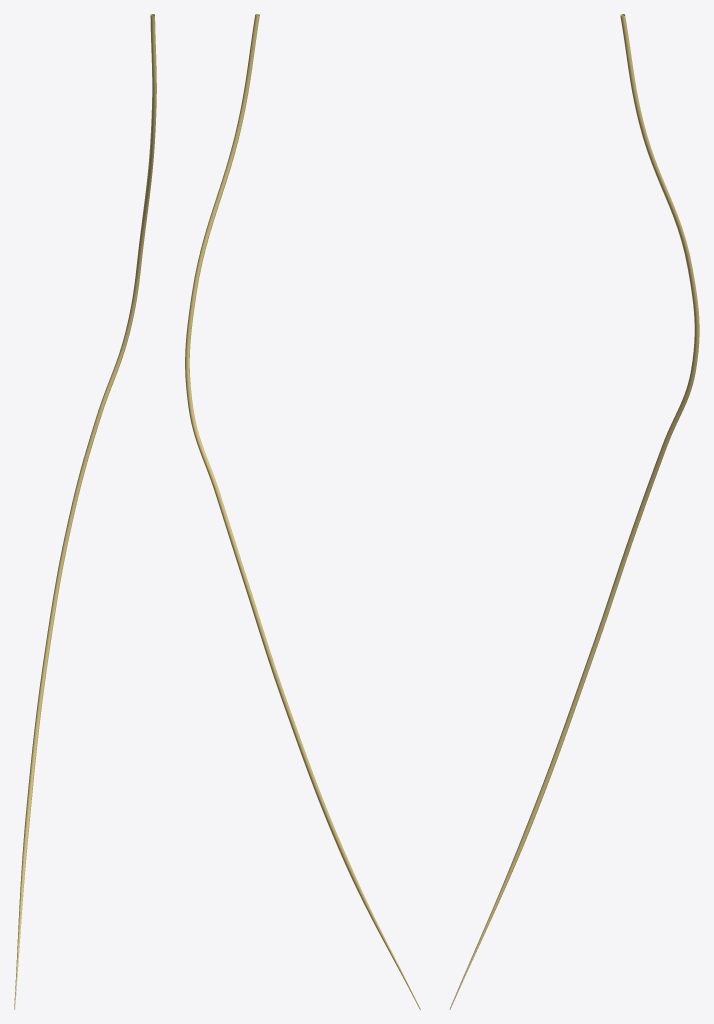
The picture shows the model from 3 angles, left to right: view 1: azimuth 30°, elevation 25°; view 2: azimuth 150°, elevation 25°; view 3: azimuth 330°, elevation 25°; orthographic projection. The views are drawn at different scales.
Visible parts, largest first — view 1: ZA_e3e0d1eddcc24799; view 2: ZA_e3e0d1eddcc24799; view 3: ZA_e3e0d1eddcc24799.
Part boxes in pixels (bbox=[...]): ZA_e3e0d1eddcc24799: bbox=[14, 14, 156, 1009]; ZA_e3e0d1eddcc24799: bbox=[185, 14, 420, 1009]; ZA_e3e0d1eddcc24799: bbox=[449, 14, 699, 1009].
Size of the model in its own units: 0.0445 by 0.2268 by 0.0256.
